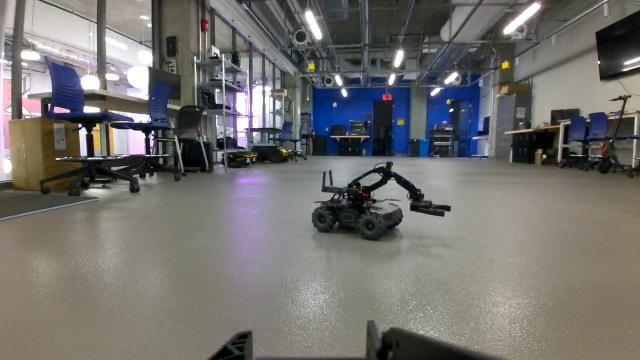robot: (309, 155, 457, 242)
